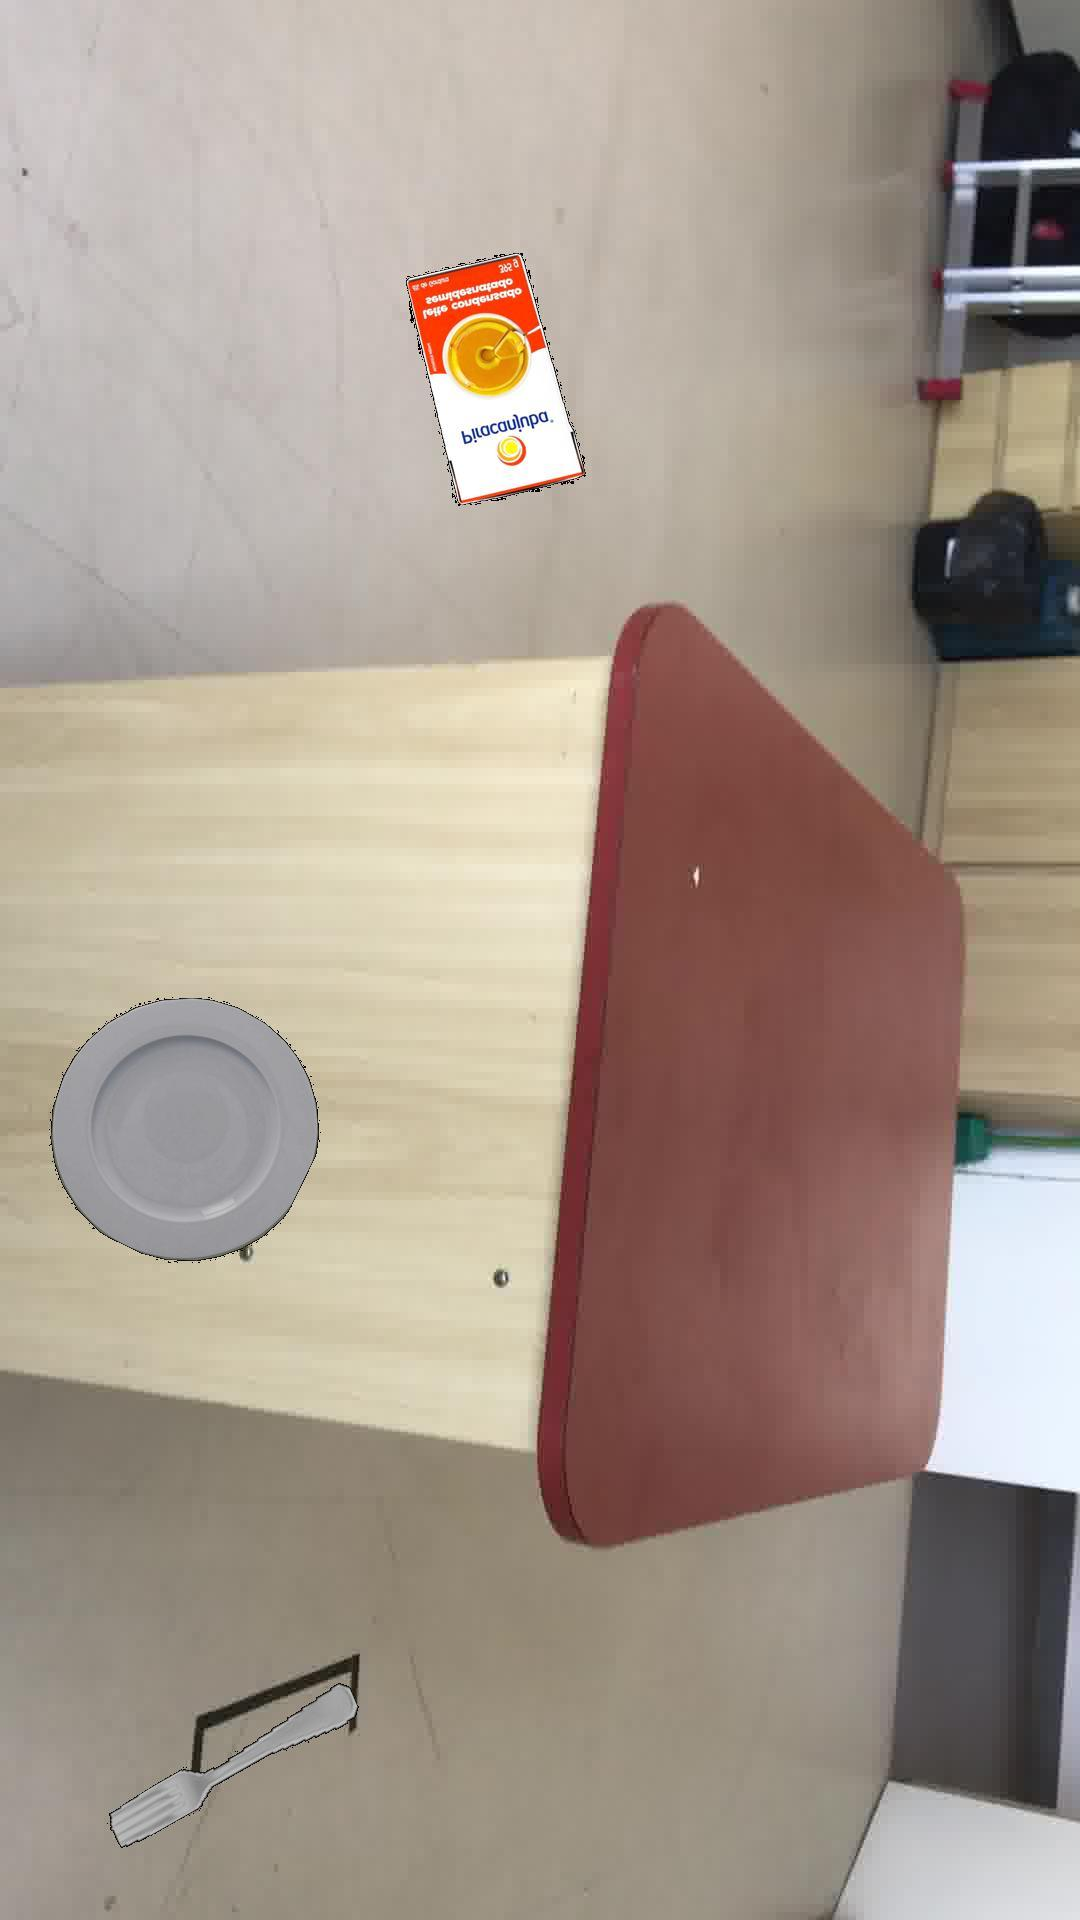fork: (108, 1681, 357, 1846)
plate: (49, 997, 318, 1259)
